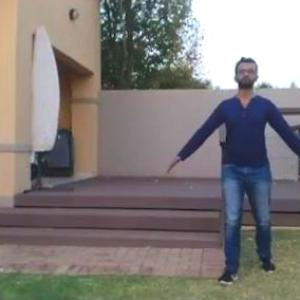land: (167, 62, 299, 281)
